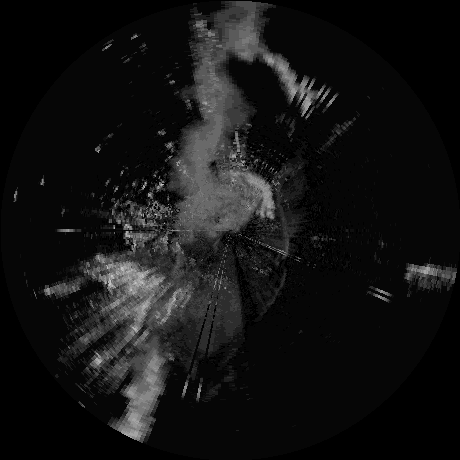frontgust: (273, 189, 290, 257)
